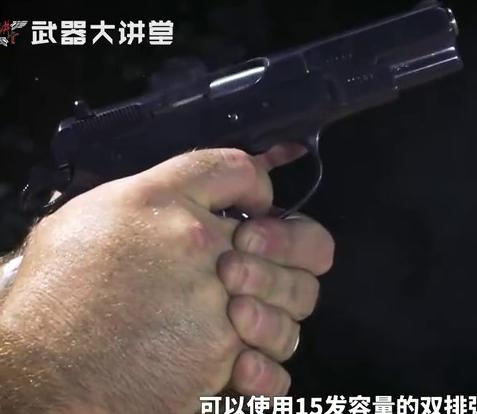gun: (1, 1, 477, 414)
